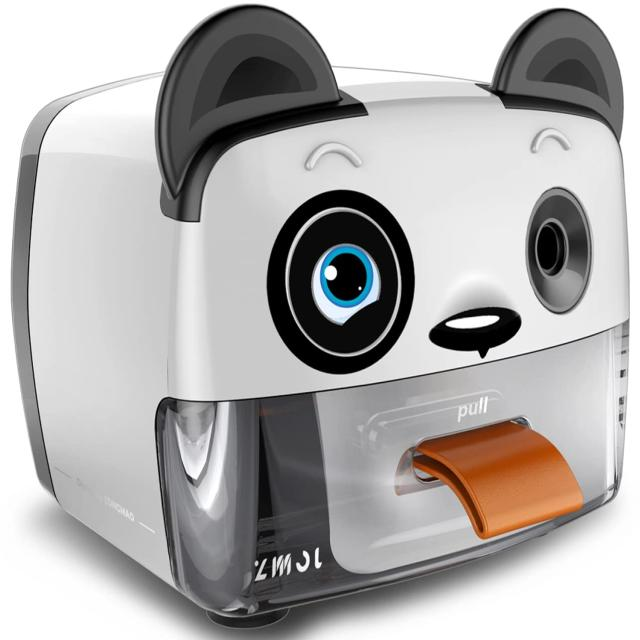pencil_sharpener: (10, 0, 635, 623)
